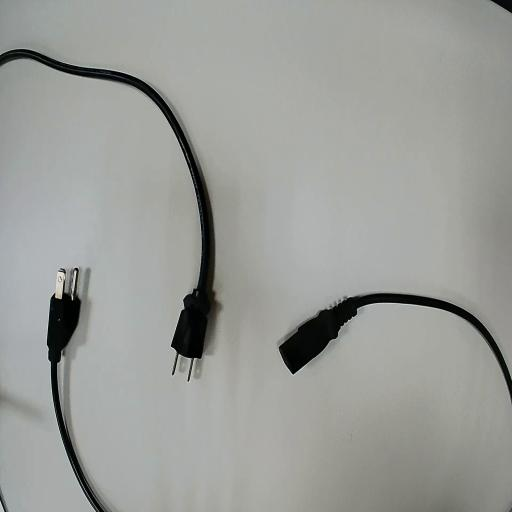wire: (0, 50, 216, 358), (280, 294, 511, 394), (48, 292, 103, 511)
